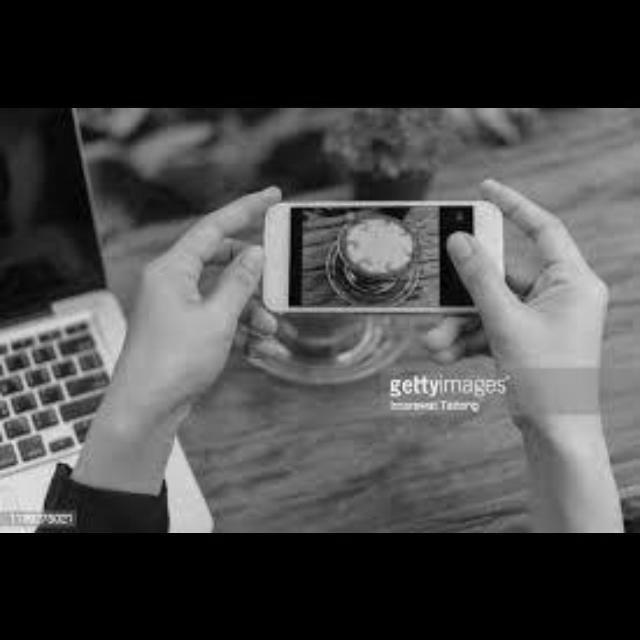fake: (246, 192, 530, 335)
